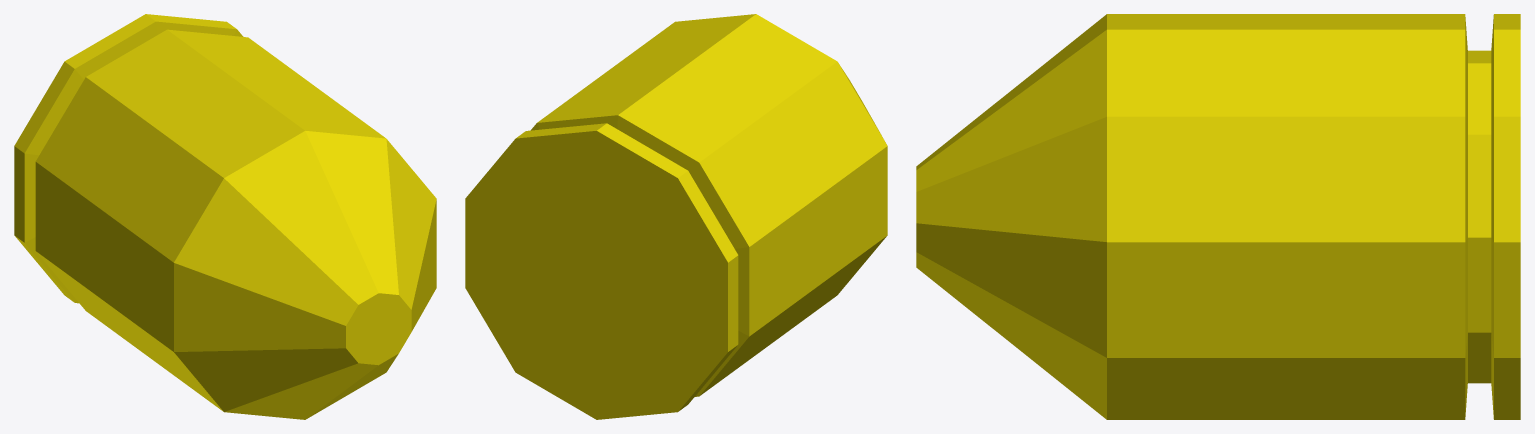
File: Bullet.fbx
3 renders of one model, left to right at view 1: azimuth 30°, elevation 25°; view 2: azimuth 150°, elevation 25°; view 3: azimuth 270°, elevation 25°, orthographic. The views are drawn at different scales.
Visible parts, largest first — view 1: Bullet; view 2: Bullet; view 3: Bullet.
Part boxes in pixels (x1=…): Bullet: x1=14, y1=14, x2=436, y2=419; Bullet: x1=465, y1=14, x2=887, y2=419; Bullet: x1=916, y1=14, x2=1520, y2=419.
Bounding box in the file's own units: 20.49 × 21.55 × 31.47.
